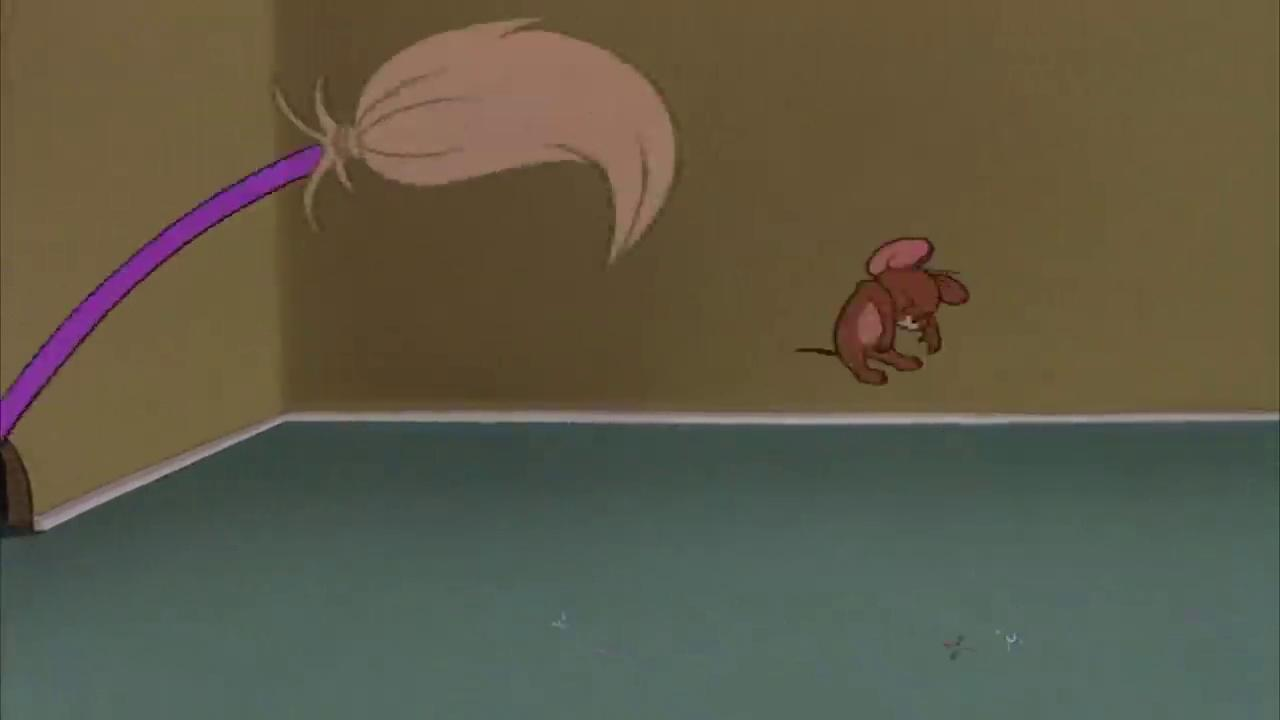Jerry: (795, 234, 971, 388)
